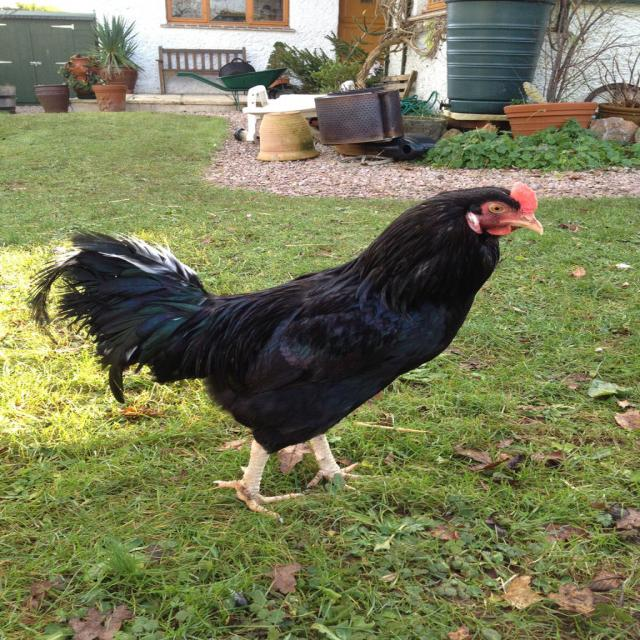Chicken: (34, 179, 544, 517)
